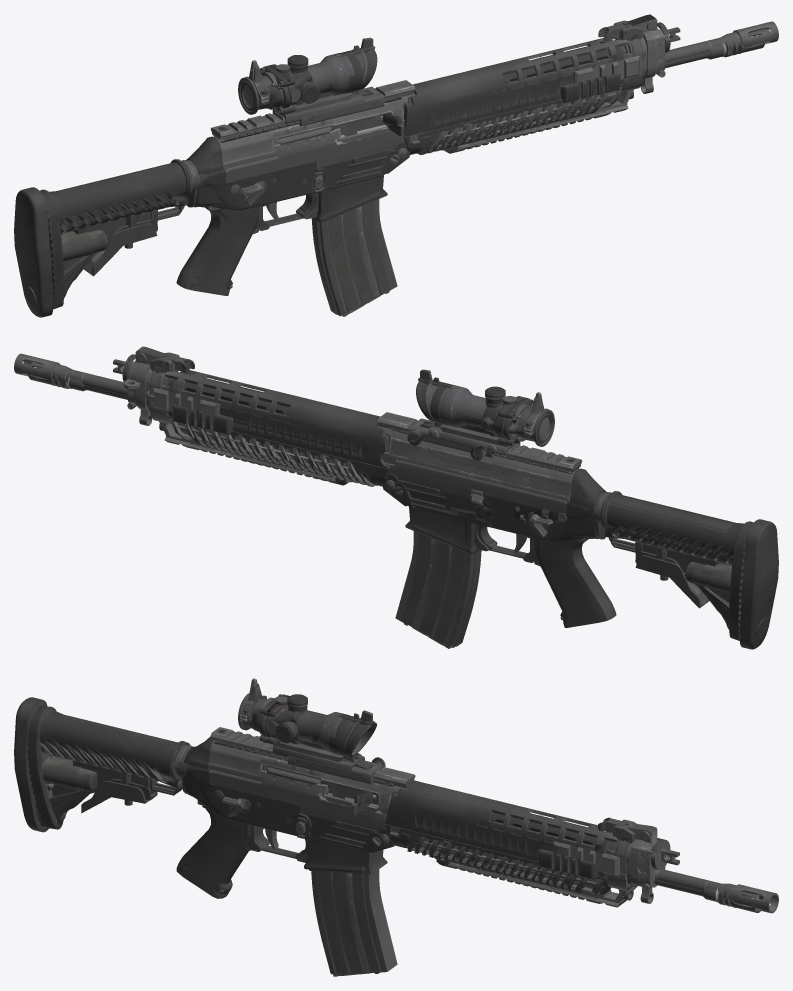
3 views of the same model, one above another, from view 1: azimuth 30°, elevation 25°; view 2: azimuth 150°, elevation 25°; view 3: azimuth 330°, elevation 25° (orthographic).
Visible parts, largest first — view 1: weapon_rif_sg556.vmdl_c.body_legacy, weapon_rif_sg556.vmdl_c.body_hd; view 2: weapon_rif_sg556.vmdl_c.body_legacy, weapon_rif_sg556.vmdl_c.body_hd; view 3: weapon_rif_sg556.vmdl_c.body_hd, weapon_rif_sg556.vmdl_c.body_legacy.
Boxes of the visible parts, left/top/right/bottom form: weapon_rif_sg556.vmdl_c.body_legacy: left=14, top=14, right=778, bottom=317; weapon_rif_sg556.vmdl_c.body_hd: left=40, top=20, right=765, bottom=316; weapon_rif_sg556.vmdl_c.body_legacy: left=14, top=346, right=778, bottom=649; weapon_rif_sg556.vmdl_c.body_hd: left=28, top=352, right=753, bottom=647; weapon_rif_sg556.vmdl_c.body_hd: left=26, top=683, right=763, bottom=975; weapon_rif_sg556.vmdl_c.body_legacy: left=14, top=678, right=778, bottom=976.
Size of the model in its own units: 36.34 by 12.66 by 3.34.
3 materials, 3 textured.
